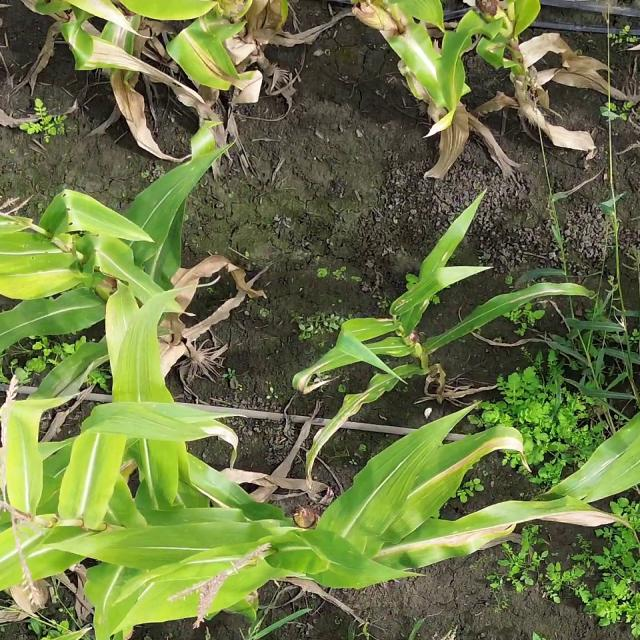gray-leaf-spot: (574, 449, 620, 490), (346, 378, 393, 415)
northern-leaf-blight: (425, 434, 509, 491), (375, 528, 508, 564), (61, 26, 108, 67), (505, 280, 569, 308), (102, 16, 140, 63), (182, 31, 221, 74)
